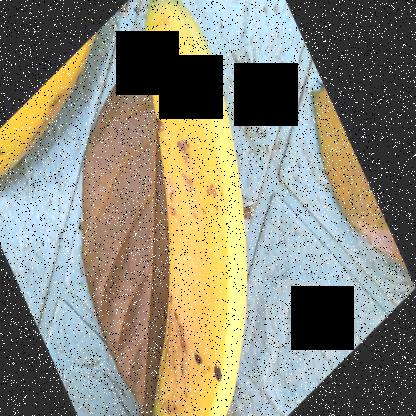ripe: (121, 1, 298, 415)
